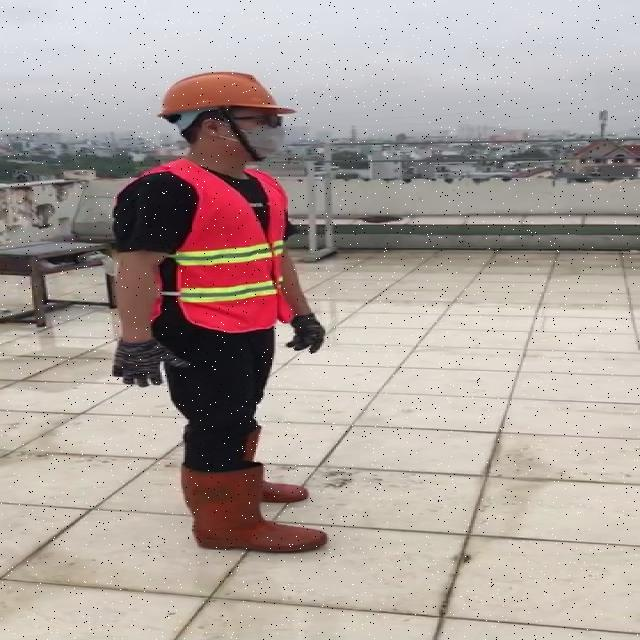Hard_hat: (150, 67, 301, 129)
Person: (94, 62, 333, 633)
Vest: (167, 162, 284, 328)
